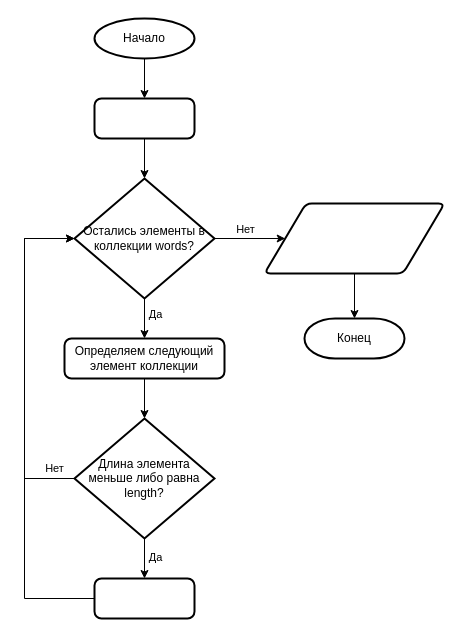
This 463x636 diagram has some shape labels left out. Here are the shapes that lost their labels. From the top down, the centre of each, then its label:
At pixel 144 118: "count = 0".
At pixel 354 238: "Возвращаем count".
At pixel 144 598: "count++".
